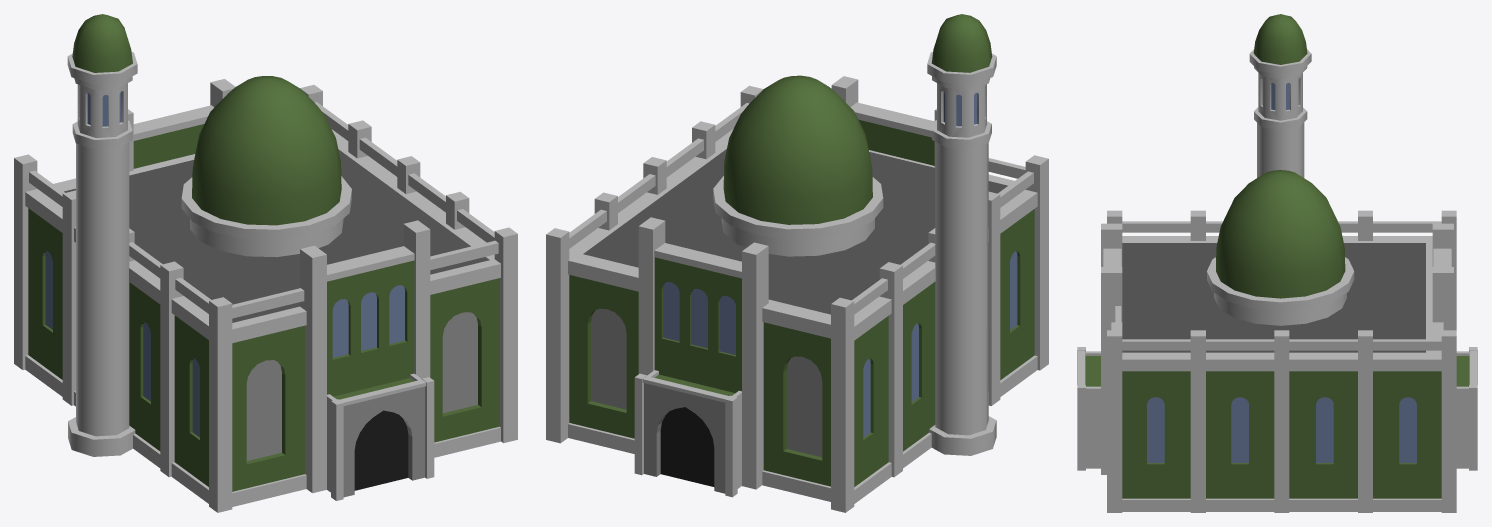
The model's file is Mosque_01.fbx.
3 renders of one model, left to right at view 1: azimuth 30°, elevation 25°; view 2: azimuth 150°, elevation 25°; view 3: azimuth 270°, elevation 25°, orthographic. The views are drawn at different scales.
Parts seen in each view (by area): view 1: Mosque_01; view 2: Mosque_01; view 3: Mosque_01.
Part boxes in pixels (left/top/right/bottom): Mosque_01: left=14, top=14, right=517, bottom=512; Mosque_01: left=546, top=14, right=1048, bottom=512; Mosque_01: left=1077, top=14, right=1477, bottom=512.
Size of the model in its own units: 16.76 by 19.86 by 19.62.
